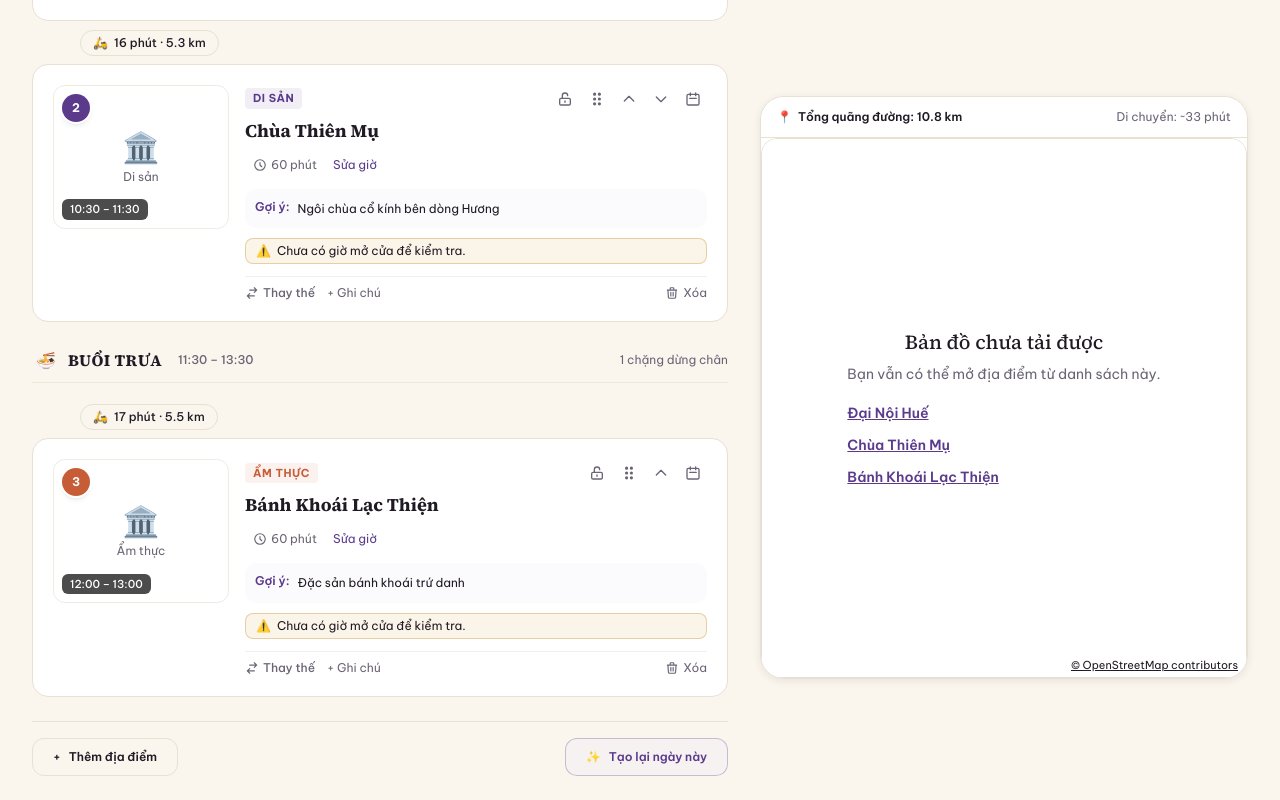
Scenario: TripEditorPage › opens add place sheet when clicking Thêm địa điểm
The width and height of the screenshot is (1280, 800).
(page scrolled)
Click the button "+ Thêm địa điểm". click: {"x": 105, "y": 756}
box: [32,738,178,776]
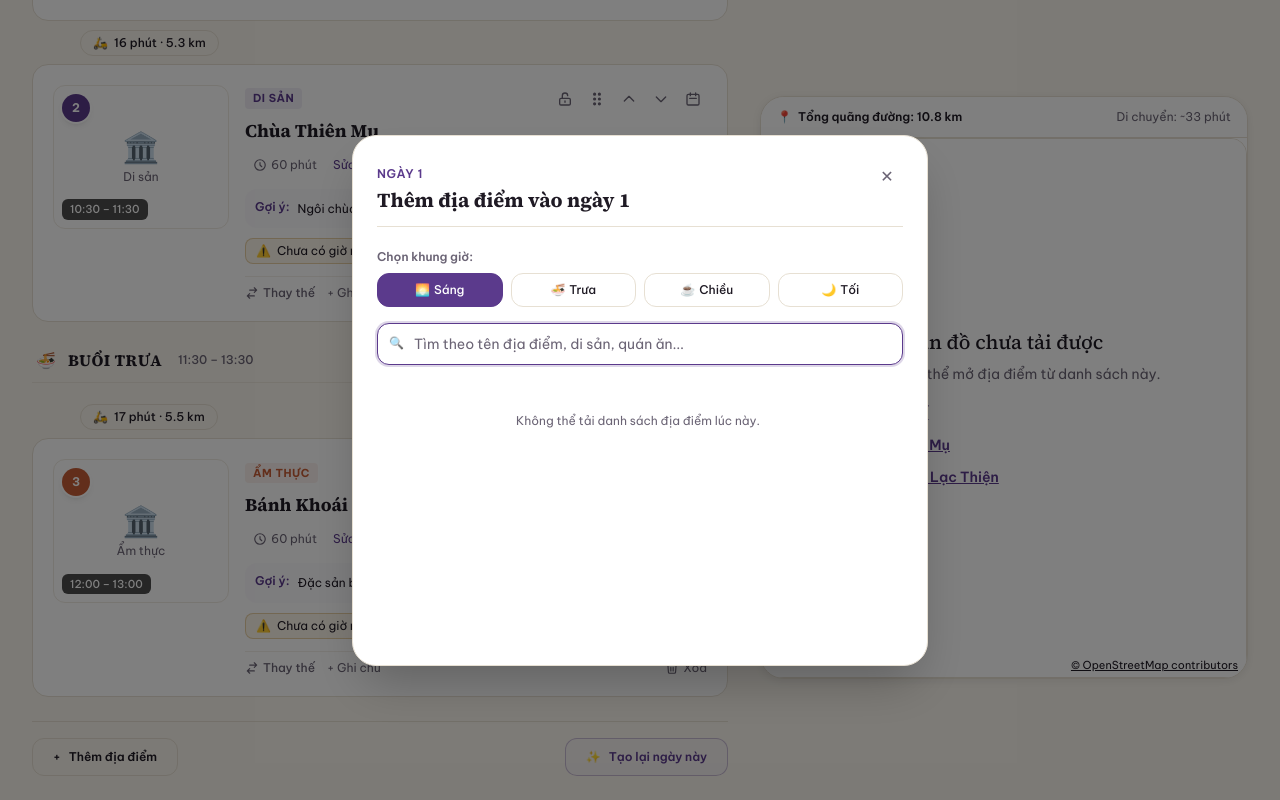
Expected: the text "Thêm địa điểm vào ngày 1" is shown, [377,186,630,214]
